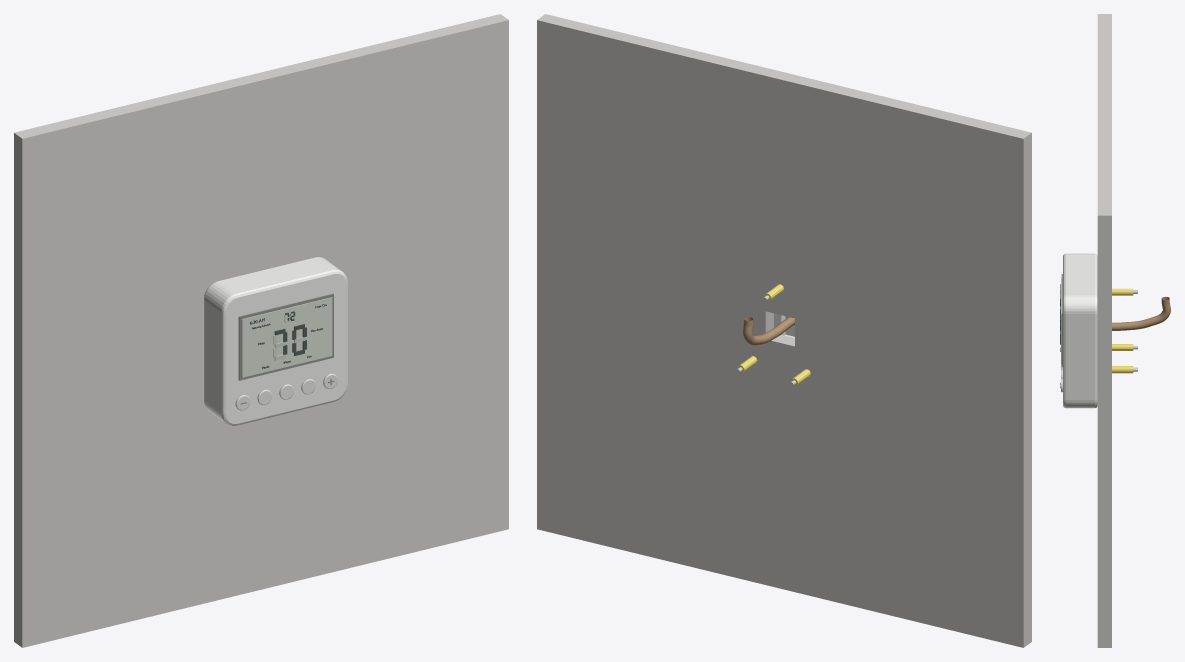
Rendered from thermostat_programmable.glb.
3 renders of one model, left to right at view 1: azimuth 30°, elevation 25°; view 2: azimuth 150°, elevation 25°; view 3: azimuth 270°, elevation 25°, orthographic. The views are drawn at different scales.
Parts seen in each view (by area): view 1: ctx_wall, head_shell, head_lcd, head_lcd_window; view 2: ctx_wall, cable_jacket; view 3: ctx_wall, head_shell, cable_jacket, head_lcd_window.
Part boxes in pixels (x1,y1,x2,y2): ctx_wall: (14, 14, 508, 647); head_shell: (204, 257, 347, 425); head_lcd: (241, 297, 332, 377); head_lcd_window: (238, 293, 333, 380); ctx_wall: (537, 14, 1031, 647); cable_jacket: (743, 317, 794, 345); ctx_wall: (1097, 14, 1111, 647); head_shell: (1063, 253, 1097, 408); cable_jacket: (1112, 296, 1170, 330); head_lcd_window: (1061, 274, 1062, 367).
Bounding box in the file's own units: 0.3999 × 0.3999 × 0.0928.
